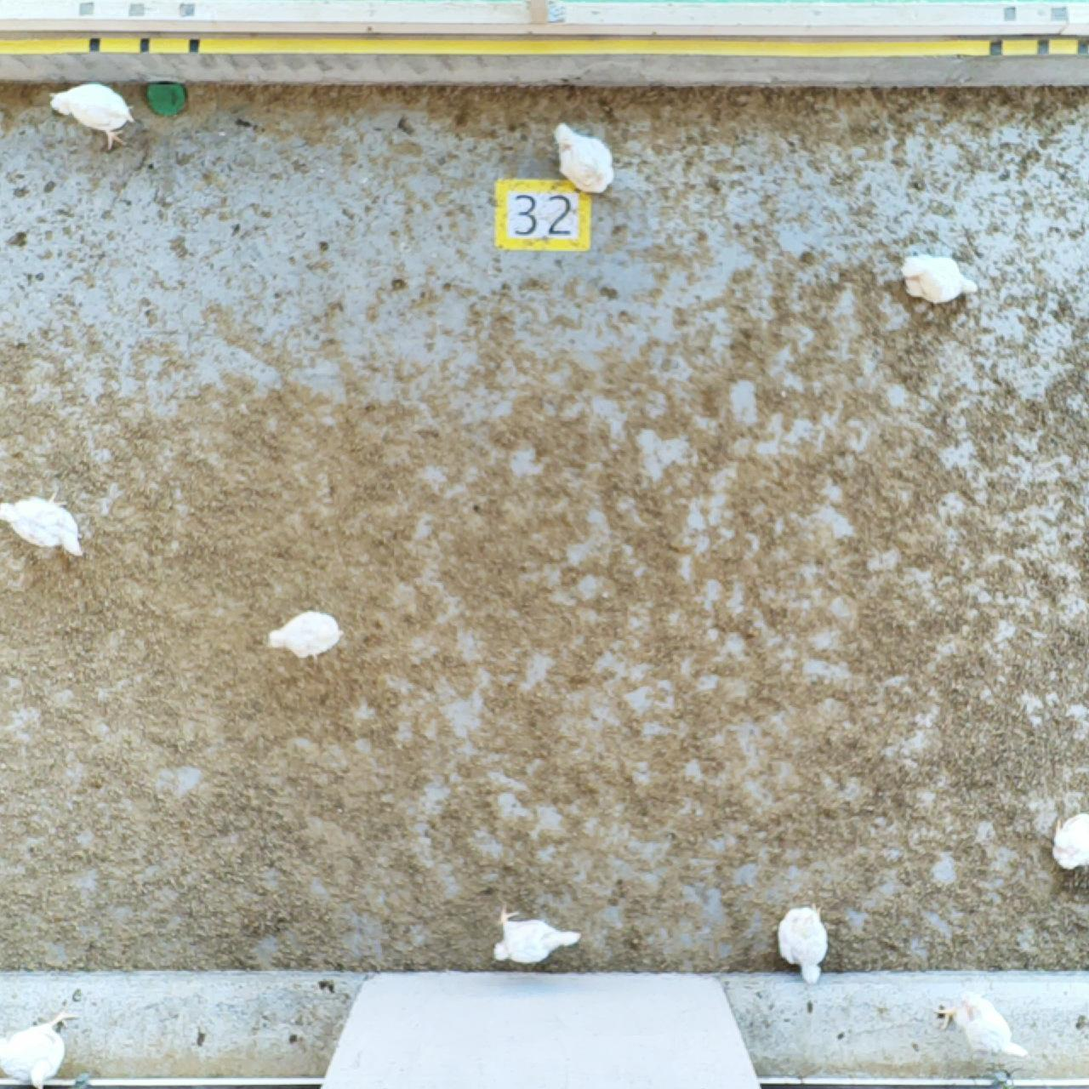chicken: (936, 992, 1029, 1059), (1, 1012, 78, 1089), (49, 83, 135, 150), (493, 905, 582, 966), (1, 493, 85, 556), (553, 123, 614, 194), (776, 904, 826, 982), (899, 253, 975, 304), (271, 612, 345, 661), (1053, 814, 1089, 869)
